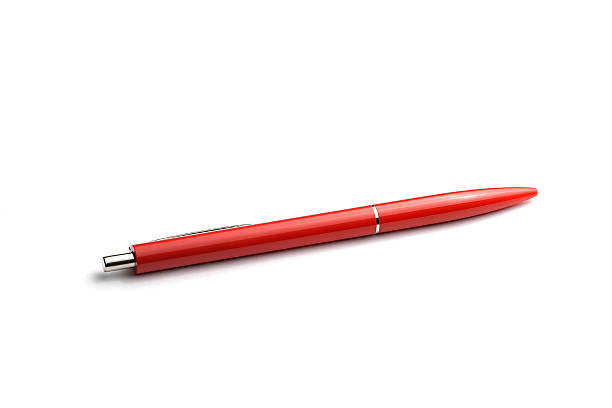pen: (94, 180, 546, 290)
